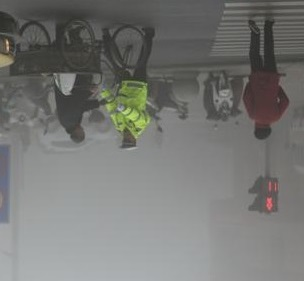person: (101, 24, 154, 152), (242, 18, 287, 143), (50, 74, 97, 142)
